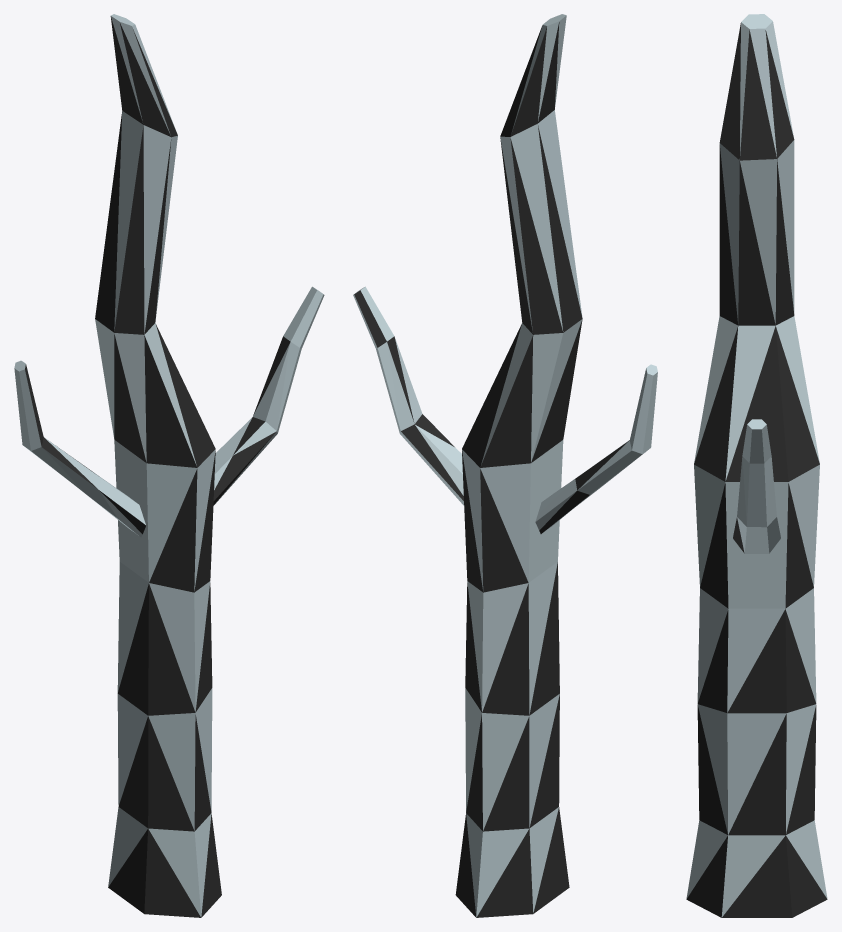
File: BirchSmallWinter.fbx
3 views of the same model, side by side, from view 1: azimuth 30°, elevation 25°; view 2: azimuth 150°, elevation 25°; view 3: azimuth 270°, elevation 25° (orthographic). The views are drawn at different scales.
Visible parts, largest first — view 1: Birch.003; view 2: Birch.003; view 3: Birch.003.
Part boxes in pixels (x1,y1,x2,y2): Birch.003: (14, 14, 324, 917); Birch.003: (353, 14, 657, 917); Birch.003: (686, 14, 827, 917).
Size of the model in its own units: 0.3313 by 0.9256 by 0.1375.
